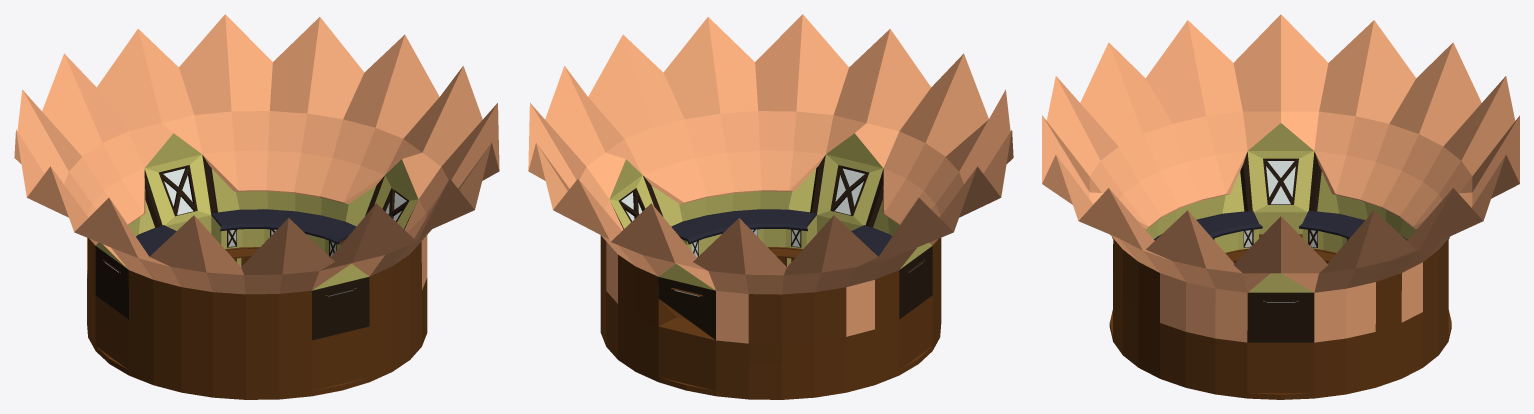
The model's file is mappa-peter.glb.
3 renders of one model, left to right at view 1: azimuth 30°, elevation 25°; view 2: azimuth 150°, elevation 25°; view 3: azimuth 270°, elevation 25°, orthographic.
Parts seen in each view (by area): view 1: Circle.004, Circle.001, Circle.002, Circle.005, Circle.003, Circle.010; view 2: Circle.004, Circle.001, Circle.002, Circle.005, Circle.003, Circle.010; view 3: Circle.004, Circle.001, Circle.002, Circle.005, Circle.003, Circle.010.
Boxes of the visible parts, x1,y1,x2,y2 form: Circle.004: [14, 14, 499, 294]; Circle.001: [87, 165, 427, 399]; Circle.002: [95, 133, 418, 290]; Circle.005: [95, 155, 414, 340]; Circle.003: [136, 209, 356, 256]; Circle.010: [105, 168, 406, 296]; Circle.004: [528, 14, 1013, 343]; Circle.001: [600, 188, 941, 399]; Circle.002: [609, 133, 932, 290]; Circle.005: [612, 155, 932, 339]; Circle.003: [671, 209, 892, 256]; Circle.010: [621, 168, 923, 296]; Circle.004: [1042, 14, 1519, 342]; Circle.001: [1109, 234, 1451, 399]; Circle.002: [1145, 123, 1416, 292]; Circle.005: [1113, 151, 1348, 342]; Circle.003: [1154, 210, 1407, 240]; Circle.010: [1244, 161, 1348, 302].
Size of the model in its own units: 44.68 by 22.53 by 44.68.
